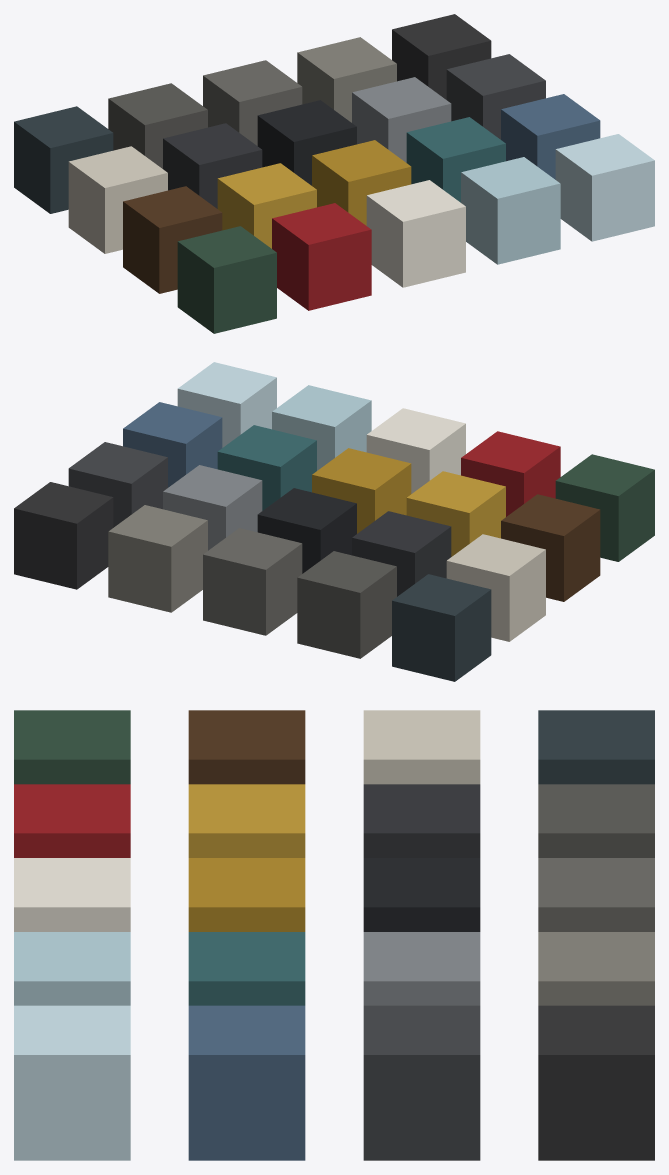
Rendered from mega-paints.glb.
3 views of the same model, one above another, from view 1: azimuth 30°, elevation 25°; view 2: azimuth 150°, elevation 25°; view 3: azimuth 270°, elevation 25° (orthographic). The views are drawn at different scales.
Visible parts, largest first — view 1: 15_green, 16_flag, 18_day, 19_daylight, 17_letters, 00_wall, 10_wood, 05_marble, 07_soot, 03_stone, 11_yellow, 01_concrete (+8 smaller); view 2: 00_wall, 01_concrete, 03_stone, 04_floor, 02_slab, 05_marble, 15_green, 10_wood, 12_ochre, 06_iron, 18_day, 11_yellow (+8 smaller); view 3: 09_gangway, 14_blue, 04_floor, 19_daylight, 05_marble, 10_wood, 00_wall, 15_green, 06_iron, 07_soot, 08_steel, 11_yellow (+8 smaller).
Part boxes in pixels (x1,y1,x2,y2): 15_green: [177, 226, 276, 333]; 16_flag: [272, 203, 371, 310]; 18_day: [461, 157, 560, 264]; 19_daylight: [555, 134, 654, 241]; 17_letters: [366, 180, 465, 287]; 00_wall: [14, 106, 113, 213]; 10_wood: [123, 186, 222, 293]; 05_marble: [68, 146, 167, 253]; 07_soot: [257, 100, 356, 185]; 03_stone: [297, 37, 396, 122]; 11_yellow: [217, 163, 316, 248]; 01_concrete: [108, 83, 207, 168]; 00_wall: [392, 574, 491, 681]; 01_concrete: [297, 551, 396, 658]; 03_stone: [108, 505, 207, 612]; 04_floor: [14, 482, 113, 589]; 02_slab: [203, 528, 302, 635]; 05_marble: [446, 534, 545, 641]; 15_green: [555, 454, 654, 561]; 10_wood: [501, 494, 600, 601]; 12_ochre: [312, 448, 411, 533]; 06_iron: [352, 511, 451, 596]; 18_day: [272, 385, 371, 470]; 11_yellow: [406, 471, 505, 556]; 09_gangway: [363, 1005, 480, 1160]; 14_blue: [188, 1005, 305, 1160]; 04_floor: [538, 1005, 654, 1160]; 19_daylight: [14, 1005, 130, 1160]; 05_marble: [363, 710, 480, 784]; 10_wood: [188, 710, 305, 784]; 00_wall: [538, 710, 654, 784]; 15_green: [14, 710, 130, 784]; 06_iron: [363, 784, 480, 857]; 07_soot: [363, 858, 480, 931]; 08_steel: [363, 932, 480, 1005]; 11_yellow: [188, 784, 305, 857].
Size of the model in its own units: 14 by 2 by 11.
